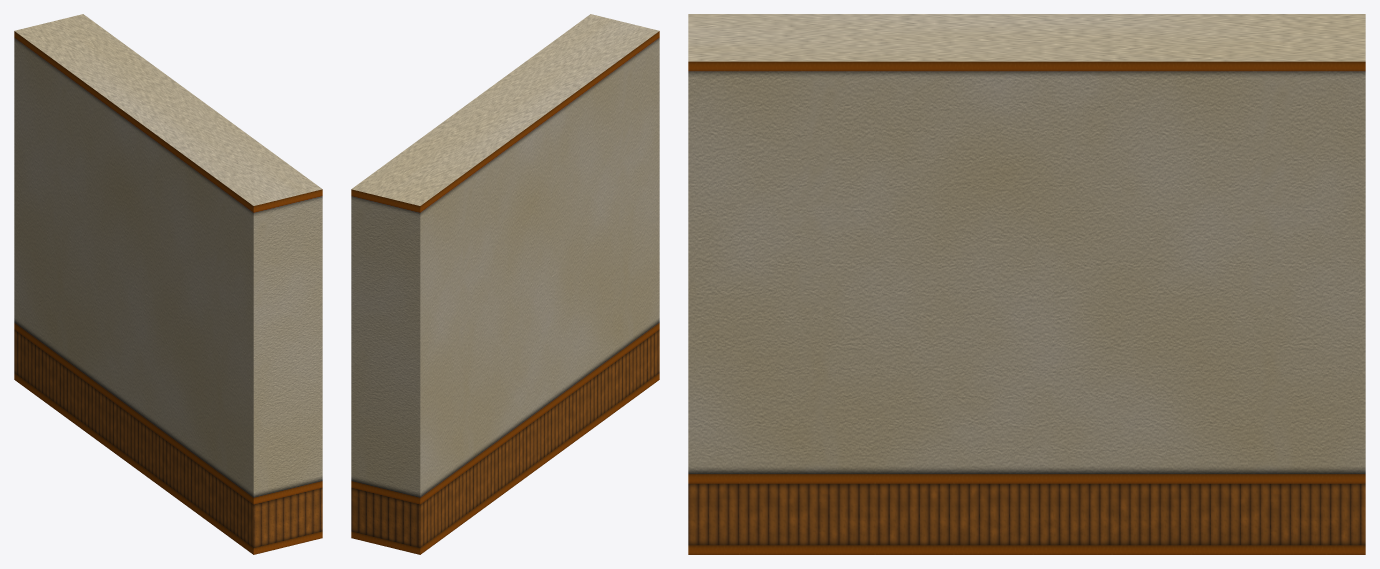
File: moving_wall1.glb
The picture shows the model from 3 angles, left to right: view 1: azimuth 30°, elevation 25°; view 2: azimuth 150°, elevation 25°; view 3: azimuth 270°, elevation 25°; orthographic projection. The views are drawn at different scales.
Visible parts, largest first — view 1: Cube; view 2: Cube; view 3: Cube.
Part boxes in pixels (left/top/right/bottom): Cube: left=14, top=14, right=322, bottom=554; Cube: left=351, top=14, right=659, bottom=554; Cube: left=688, top=14, right=1365, bottom=554.
Size of the model in its own units: 0.531 by 2.56 by 3.19.
Materials: 2 (2 with a texture image).
